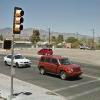traffic lights: (14, 6, 23, 34)
